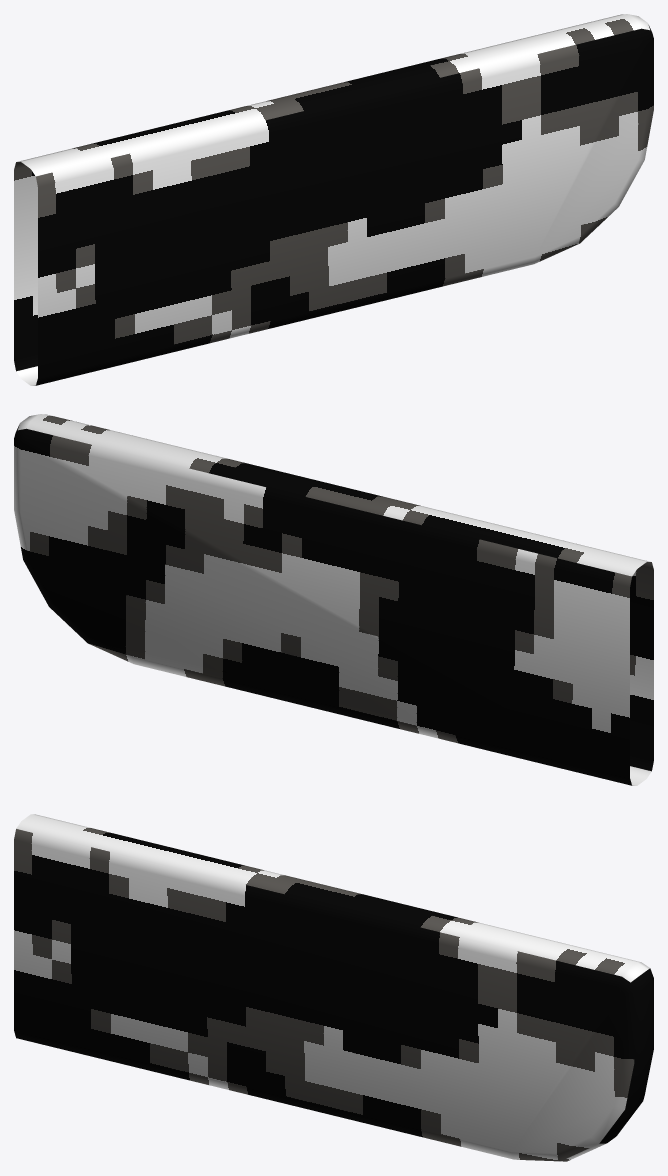
File: sword_over_model.obj
The picture shows the model from 3 angles, top to bottom: view 1: azimuth 30°, elevation 25°; view 2: azimuth 150°, elevation 25°; view 3: azimuth 330°, elevation 25°; orthographic projection.
Parts seen in each view (by area): view 1: Cube; view 2: Cube; view 3: Cube.
Boxes of the visible parts, x1,y1,x2,y2 form: Cube: (14,14,653,385); Cube: (14,414,653,785); Cube: (14,814,653,1161).
Bounding box in the file's own units: 6 × 2 × 0.4.
